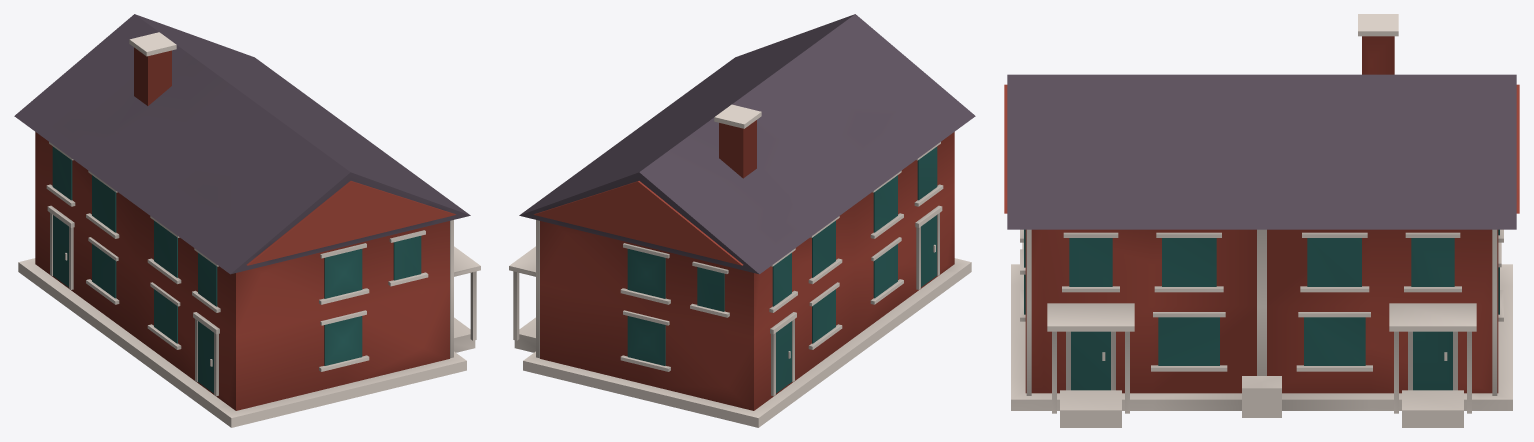
3 renders of one model, left to right at view 1: azimuth 30°, elevation 25°; view 2: azimuth 150°, elevation 25°; view 3: azimuth 270°, elevation 25°, orthographic. The views are drawn at different scales.
Visible parts, largest first — view 1: body_pal_asphalt, body_pal_brick, body_pal_picketWhite, body_pal_backpackTeal; view 2: body_pal_asphalt, body_pal_brick, body_pal_picketWhite, body_pal_backpackTeal; view 3: body_pal_asphalt, body_pal_brick, body_pal_picketWhite, body_pal_backpackTeal.
Part boxes in pixels (bbox=[...]): body_pal_asphalt: bbox=[14, 14, 470, 274]; body_pal_brick: bbox=[35, 47, 455, 410]; body_pal_picketWhite: bbox=[18, 32, 480, 427]; body_pal_backpackTeal: bbox=[52, 146, 421, 393]; body_pal_asphalt: bbox=[519, 14, 975, 274]; body_pal_brick: bbox=[534, 120, 954, 410]; body_pal_picketWhite: bbox=[509, 104, 971, 427]; body_pal_backpackTeal: bbox=[627, 146, 937, 393]; body_pal_asphalt: bbox=[1007, 74, 1516, 229]; body_pal_brick: bbox=[1004, 36, 1519, 393]; body_pal_picketWhite: bbox=[1011, 14, 1512, 427]; body_pal_backpackTeal: bbox=[1024, 229, 1499, 390].
Size of the model in its own units: 10 by 9.03 by 14.16.
